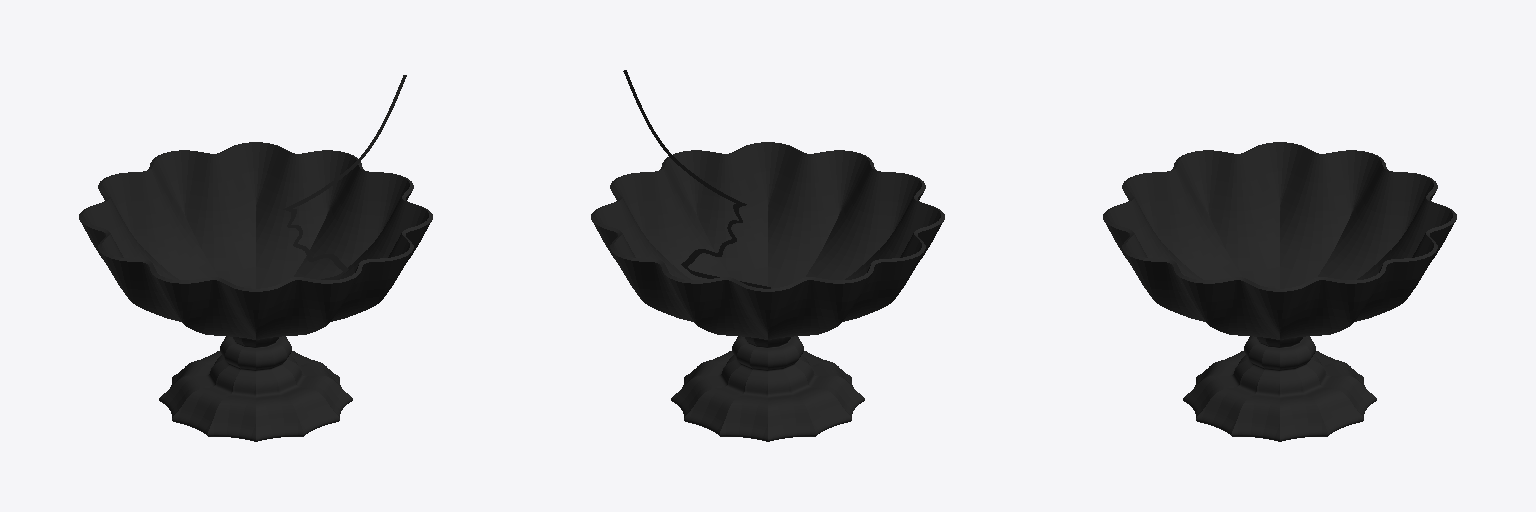
3 renders of one model, left to right at view 1: azimuth 30°, elevation 25°; view 2: azimuth 150°, elevation 25°; view 3: azimuth 270°, elevation 25°, orthographic.
Parts seen in each view (by area): view 1: Star01, Line01; view 2: Star01, Line01; view 3: Star01.
Boxes of the visible parts, box(x1,y1,x2,y2) form: Star01: box(79, 142, 432, 441); Line01: box(283, 75, 406, 279); Star01: box(591, 142, 944, 441); Line01: box(623, 70, 770, 288); Star01: box(1103, 142, 1456, 441).
Size of the model in its own units: 27.17 by 25.15 by 27.17.